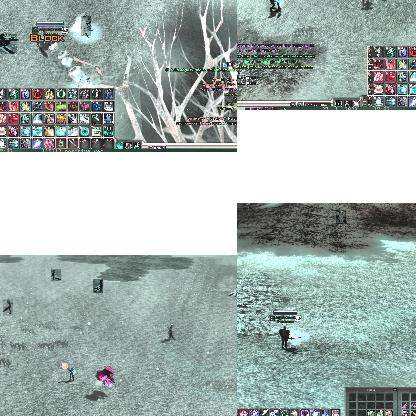caliana: (0, 34, 17, 53), (81, 16, 91, 36), (266, 0, 280, 12), (3, 299, 13, 315), (166, 324, 176, 340), (93, 279, 103, 293), (227, 284, 237, 298), (336, 210, 346, 224), (51, 269, 61, 281), (360, 0, 372, 4)
